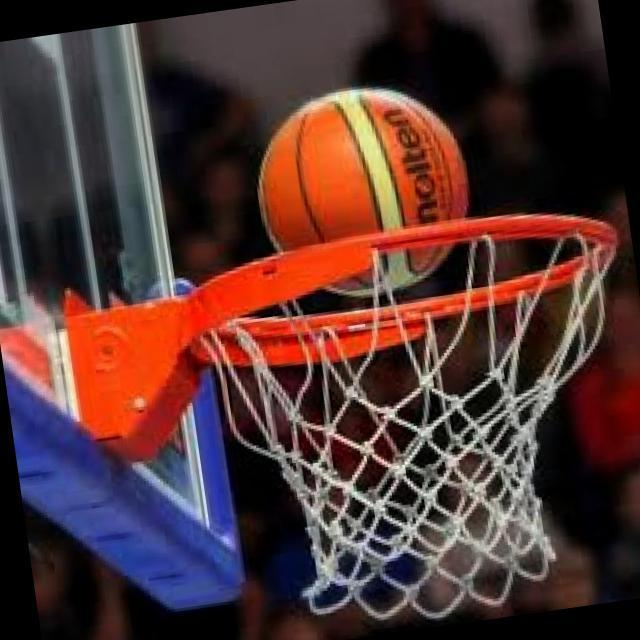ball: (247, 74, 483, 308)
hoop: (190, 213, 625, 368)
